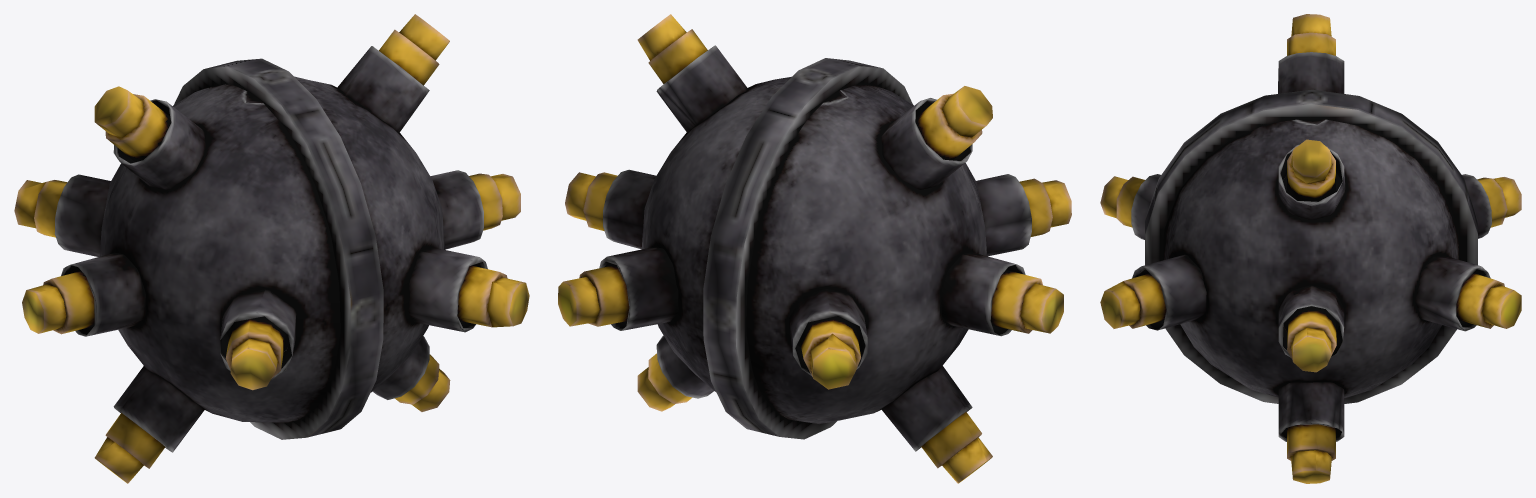
Rendered from projectile_weapon_03.fbx.
The picture shows the model from 3 angles, left to right: view 1: azimuth 30°, elevation 25°; view 2: azimuth 150°, elevation 25°; view 3: azimuth 270°, elevation 25°; orthographic projection. The views are drawn at different scales.
Parts seen in each view (by area): view 1: Space Bomb 1; view 2: Space Bomb 1; view 3: Space Bomb 1.
Boxes of the visible parts, bbox=[...] form: Space Bomb 1: bbox=[14, 14, 529, 483]; Space Bomb 1: bbox=[558, 14, 1071, 483]; Space Bomb 1: bbox=[1100, 14, 1521, 483].
Bounding box in the file's own units: 2511 × 2194 × 1979.
Materials: 1 (1 with a texture image).
